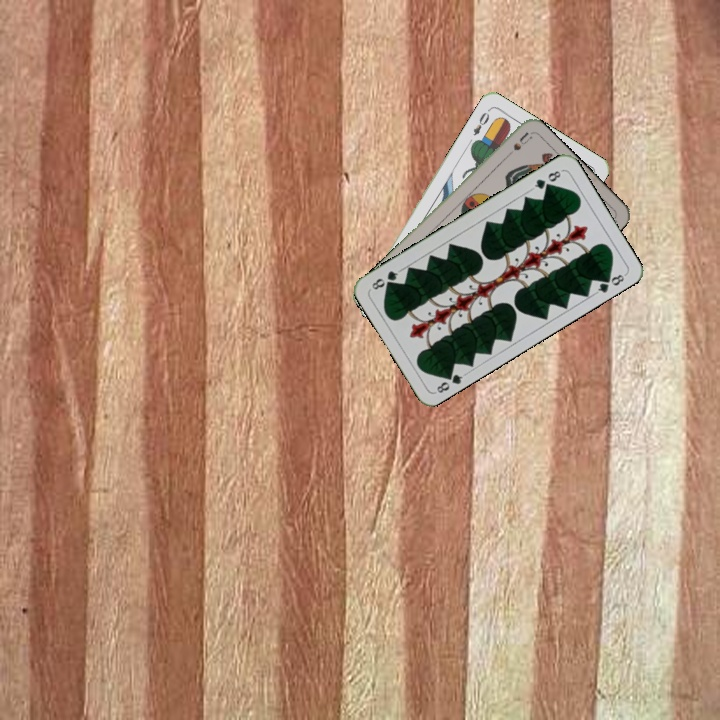EO: (469, 105, 492, 138)
G8: (431, 367, 468, 396), (528, 166, 565, 192)
SU: (500, 128, 534, 162)
